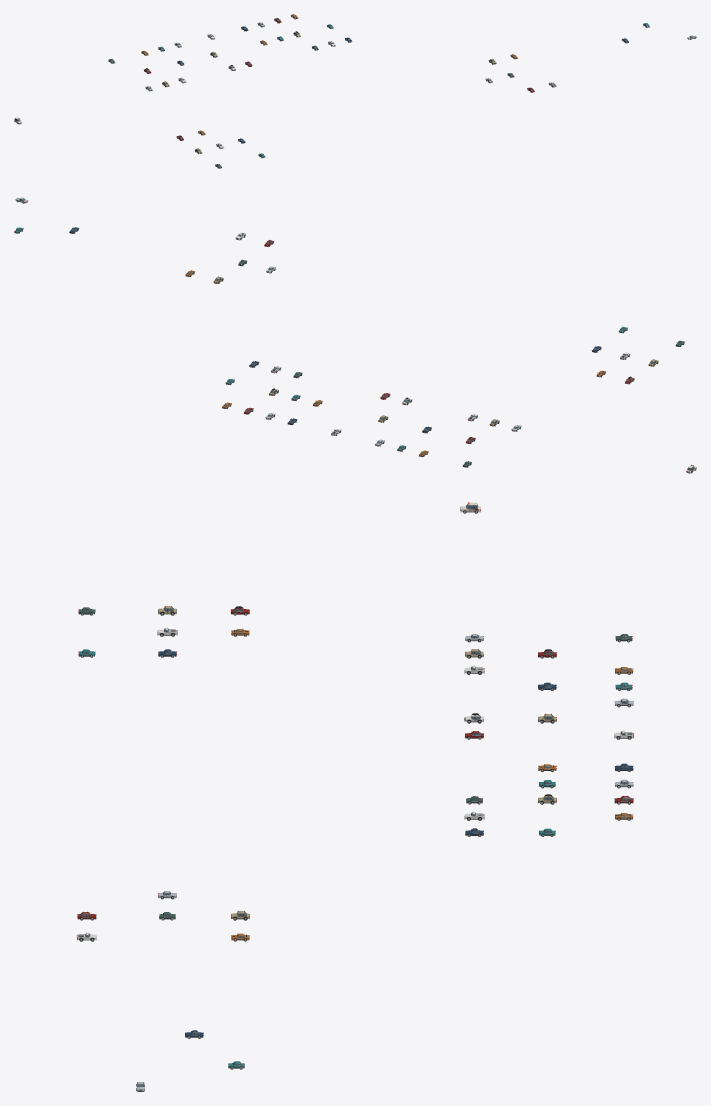
Rendered from Detailed_Vehicles.fbx.
3 views of the same model, one above another, from view 1: azimuth 30°, elevation 25°; view 2: azimuth 150°, elevation 25°; view 3: azimuth 270°, elevation 25° (orthographic). The views are drawn at different scales.
Size of the model in its own units: 35977 by 257 by 14526.
